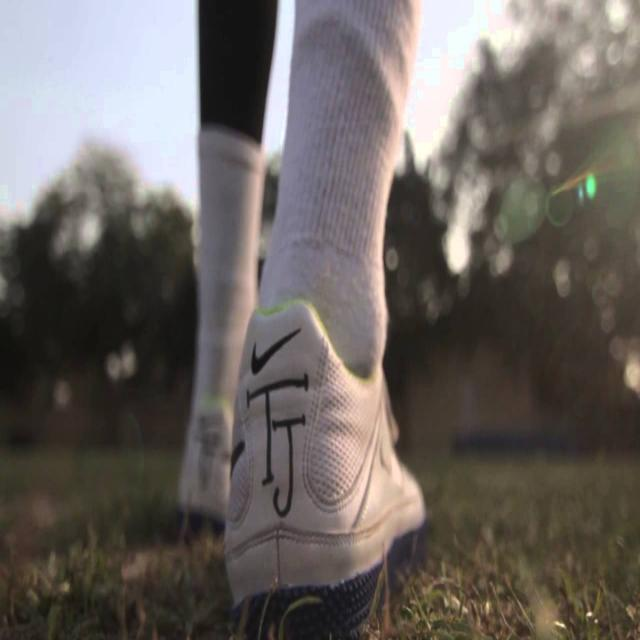nike: (242, 322, 309, 375)
